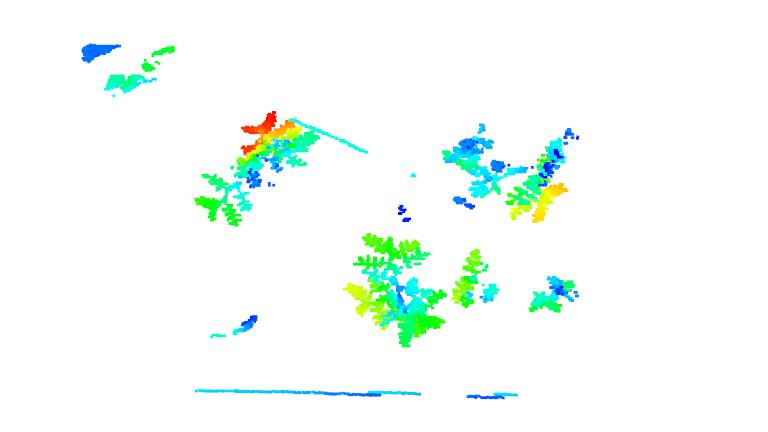chickpea: (336, 278, 449, 349), (504, 127, 577, 226), (437, 132, 525, 208), (348, 202, 433, 279), (240, 107, 327, 177), (182, 160, 265, 227), (448, 250, 499, 310), (528, 270, 588, 315)
